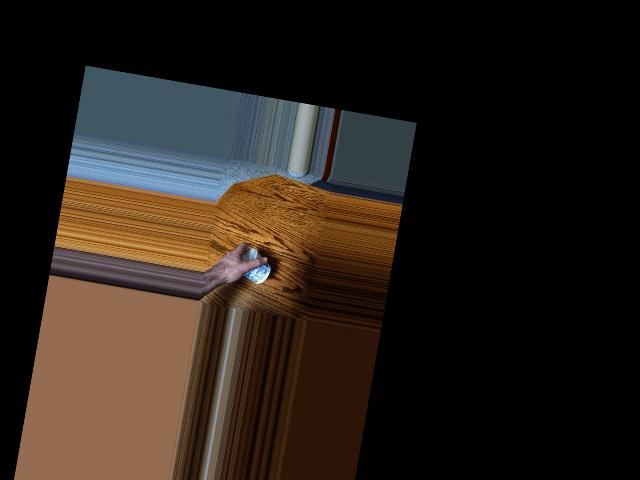cotage: (235, 245, 274, 288)
